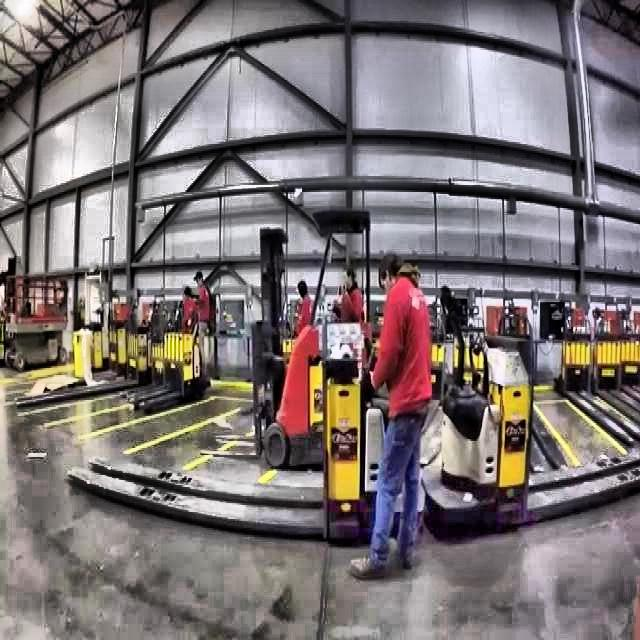bull_dozer/loader/grader: (266, 199, 372, 469)
person: (348, 252, 432, 584)
